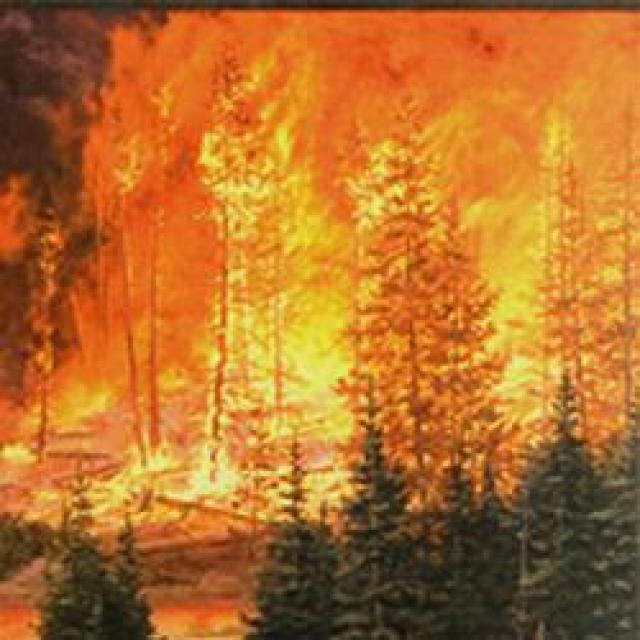fire: (0, 6, 638, 521), (145, 589, 256, 640), (0, 591, 46, 640)
